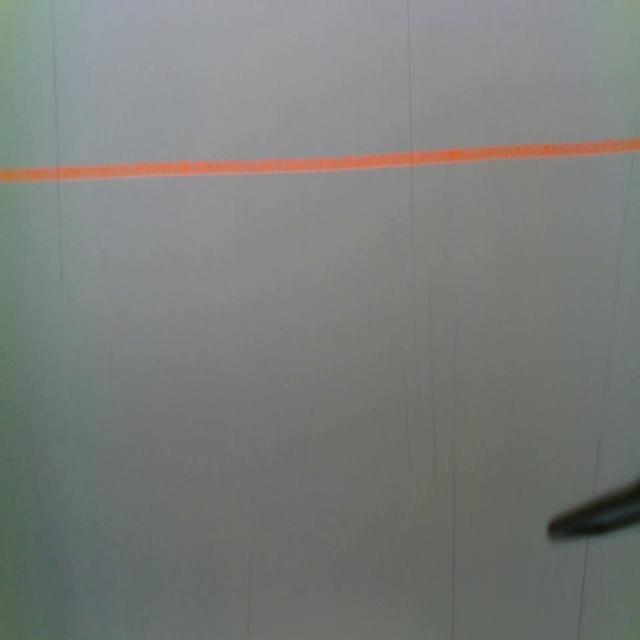crease: (593, 144, 637, 485), (49, 0, 65, 287), (406, 0, 419, 290), (450, 326, 460, 640), (427, 291, 438, 469), (574, 537, 592, 640), (243, 547, 256, 640), (402, 368, 411, 468)
